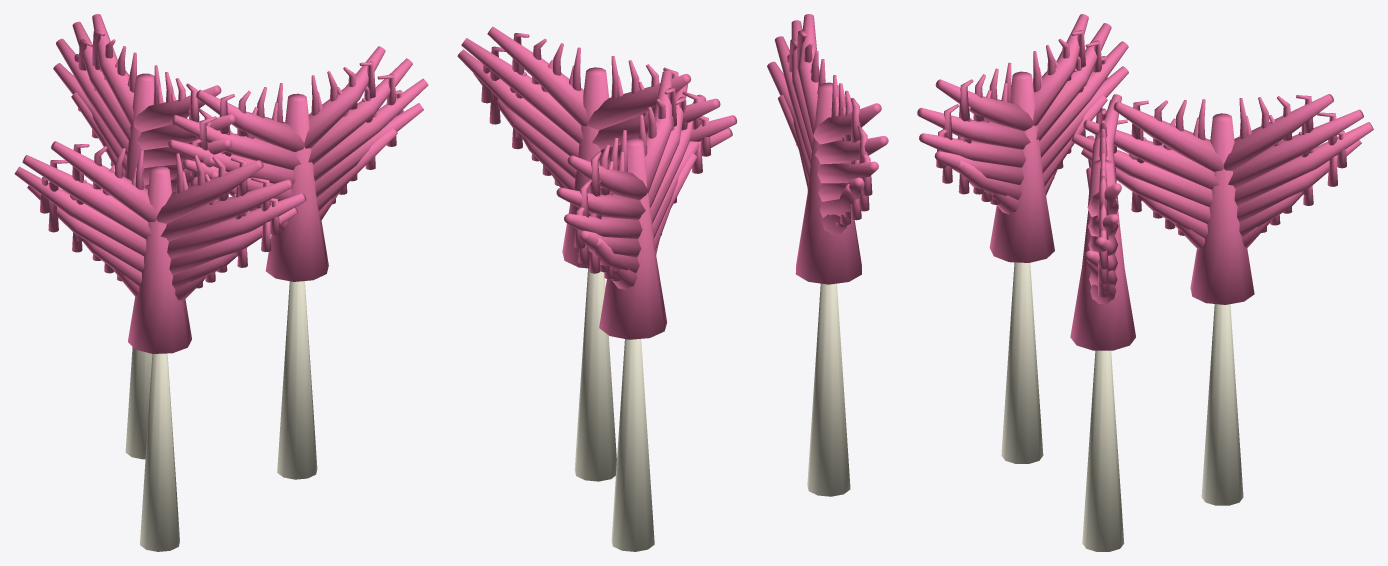
File: underwater-reef-worlds-feather-duster-worms-5c81acb7__7027.glb
3 renders of one model, left to right at view 1: azimuth 30°, elevation 25°; view 2: azimuth 150°, elevation 25°; view 3: azimuth 270°, elevation 25°, orthographic. The views are drawn at different scales.
Parts seen in each view (by area): view 1: feather-duster-worms; view 2: feather-duster-worms; view 3: feather-duster-worms.
Part boxes in pixels (<box>): feather-duster-worms: <box>14,14,428,551</box>; feather-duster-worms: <box>457,14,888,551</box>; feather-duster-worms: <box>917,14,1373,551</box>.
Bounding box in the file's own units: 0.7899 × 0.7462 × 0.7628.
